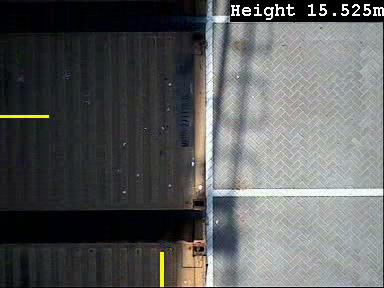groundmarker_2: (190, 98, 232, 170)
